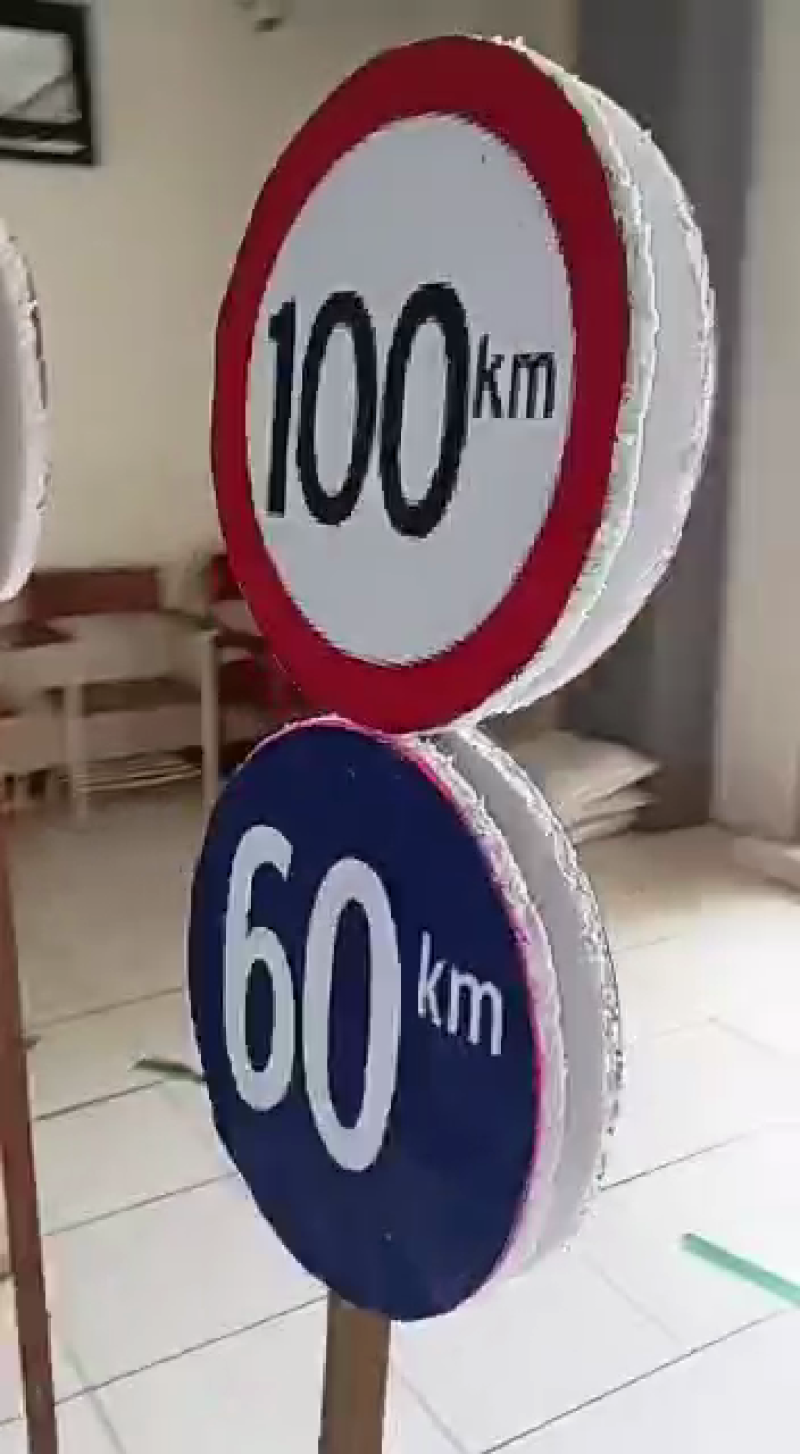batas maksimal 100kmperjam minimal 60kmperjam: (162, 15, 656, 1332)
